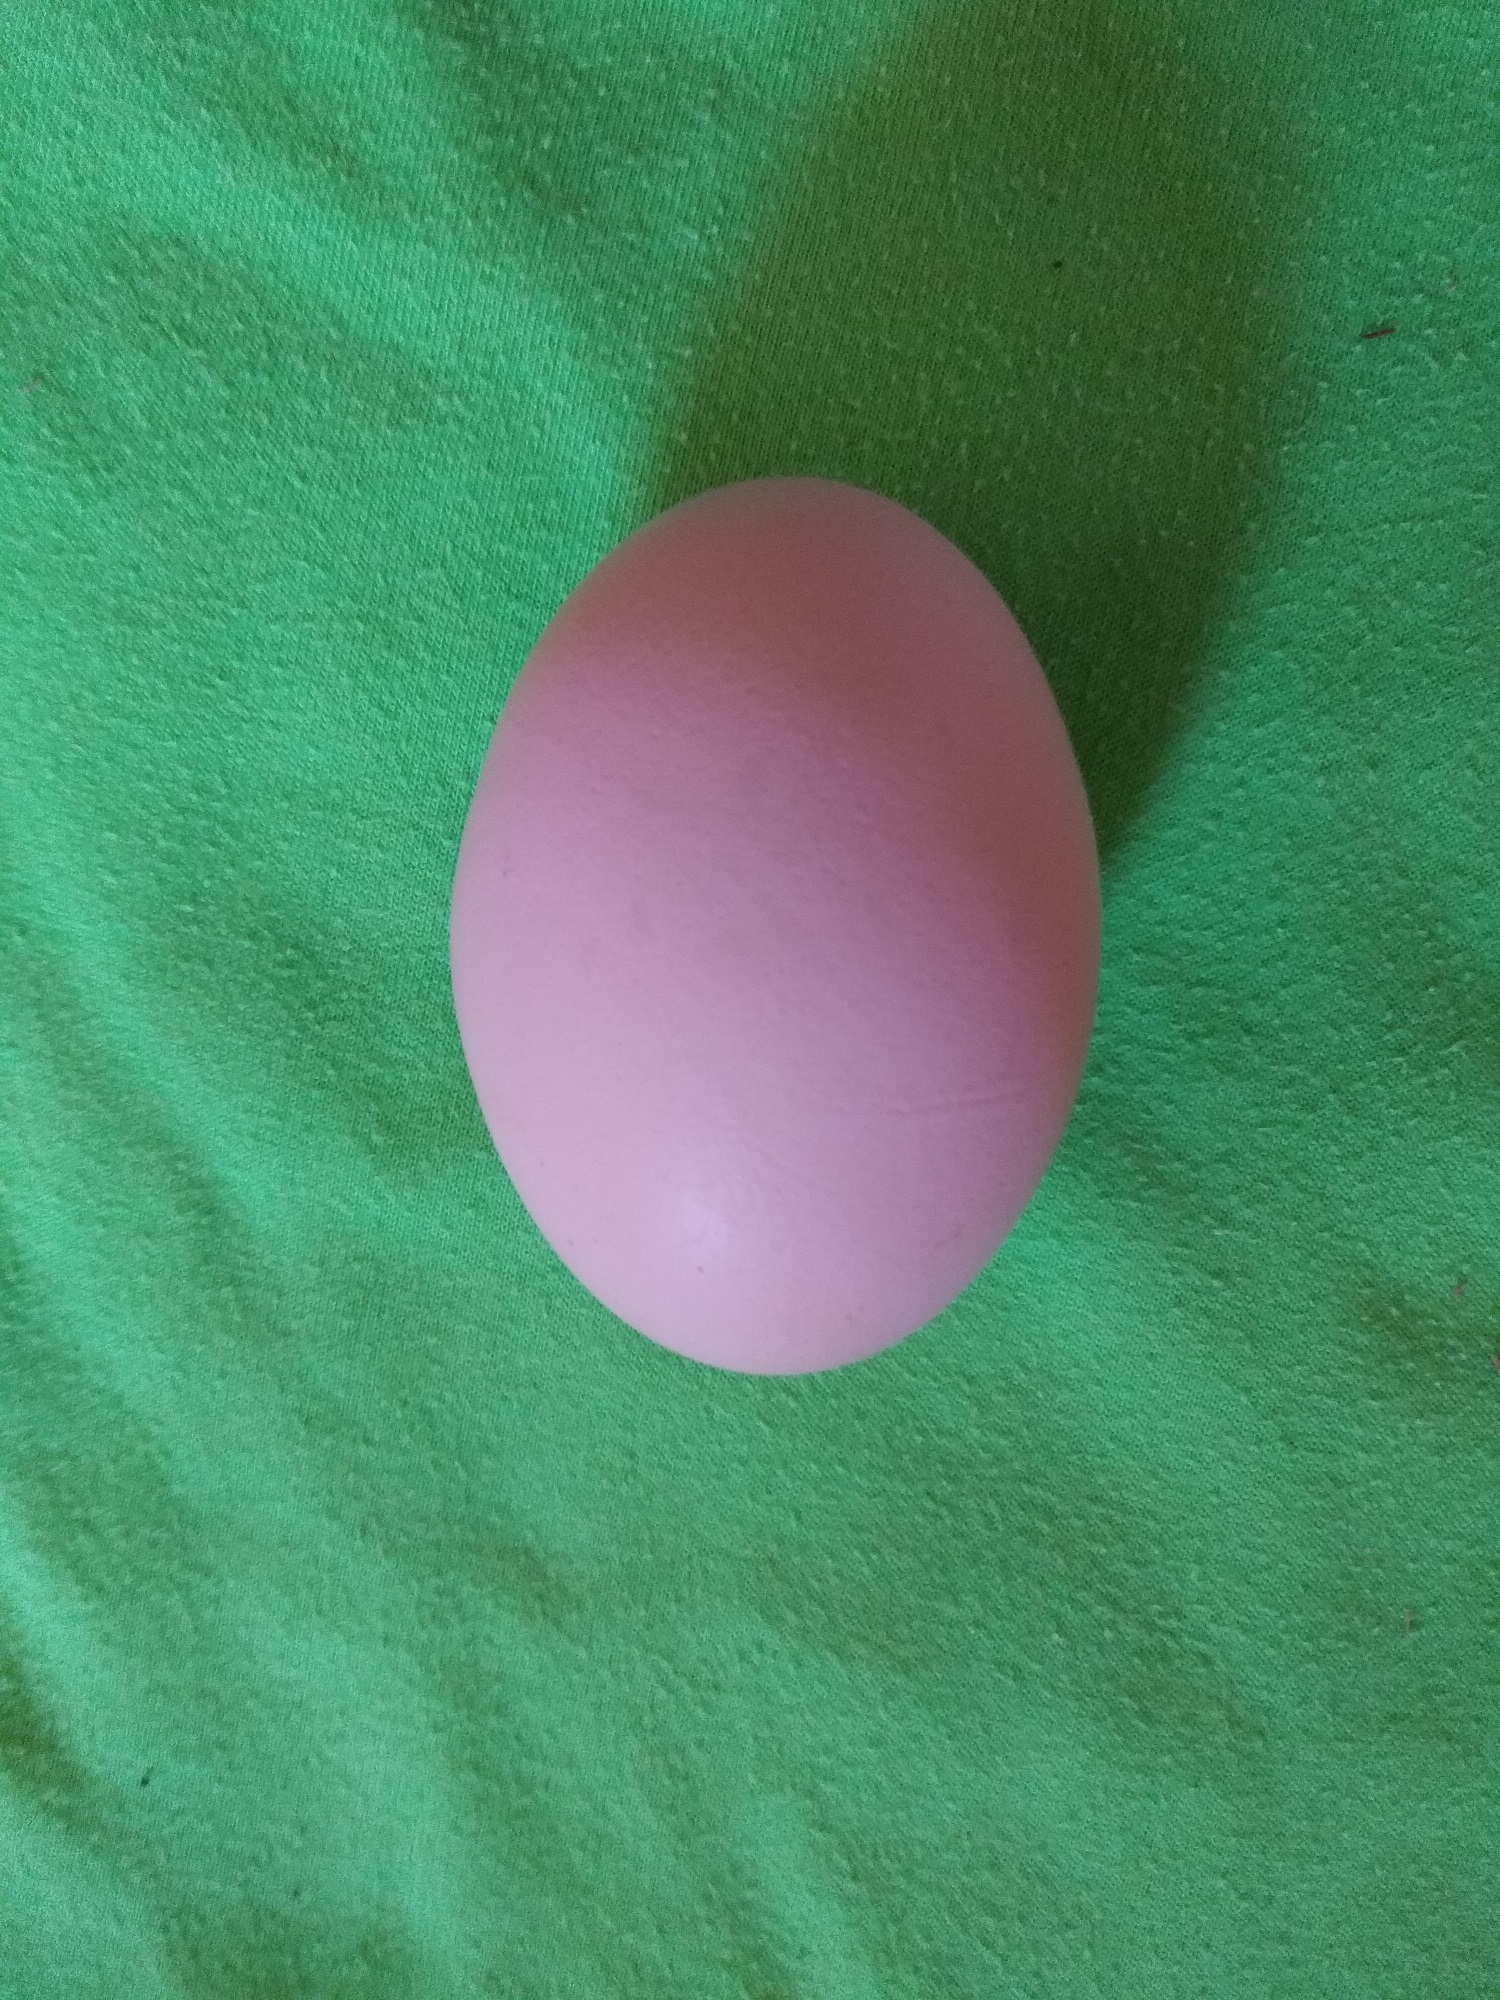Female: (438, 468, 1120, 1389)
